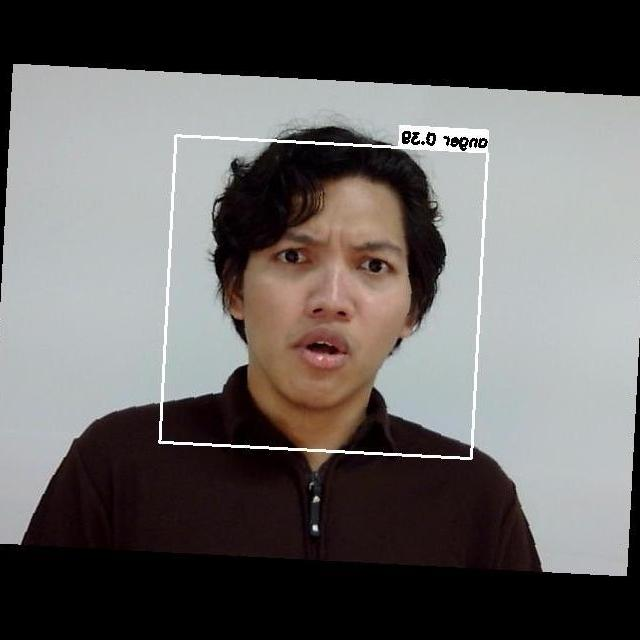Surprised: (247, 221, 429, 403)
